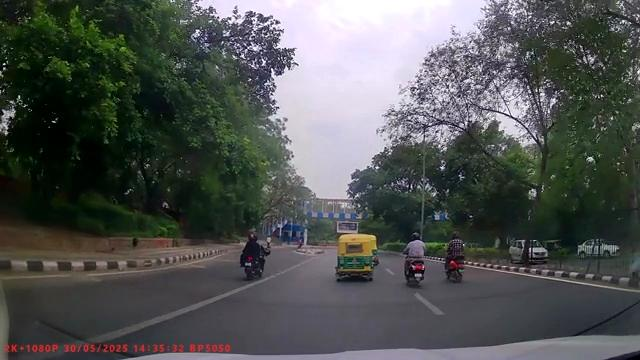motorcycle_with_helmet: (238, 232, 267, 281), (402, 231, 426, 287), (443, 230, 466, 283)
